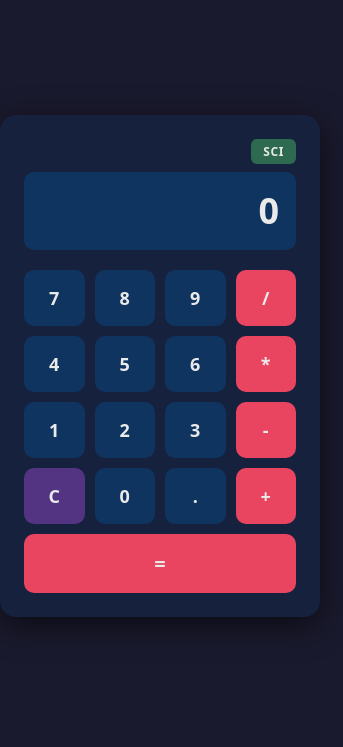
Test: Calculator › clicking the toggle button again hides ScientificButtonGrid
Click the button with aria-label "Switch to scientific mode" at x=274, y=152, box x1=251 y1=139 x2=296 y2=164
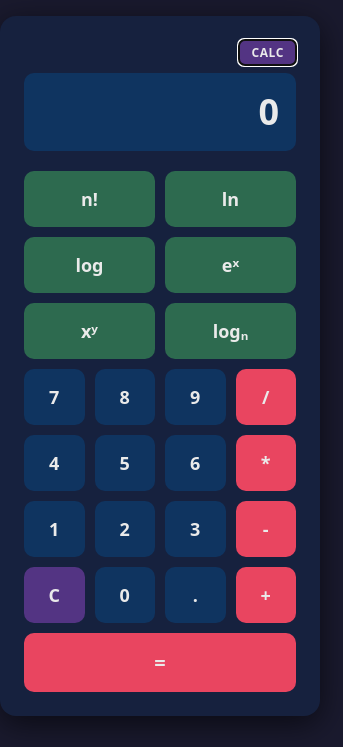
Result: the element with class "calc-scientific-grid" is shown at x1=24 y1=171 x2=296 y2=359
From scientific, toggle goes to calculus (hides the sci grid)
Click the button with aria-label "Switch to calculus mode" at x=268, y=52, box x1=240 y1=40 x2=296 y2=65
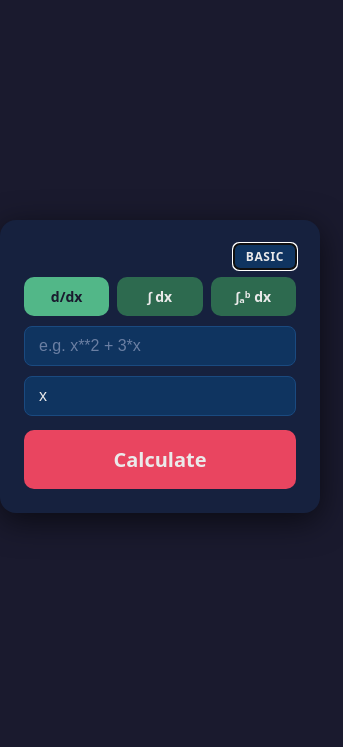
Result: the element with class "calc-scientific-grid" is gone
